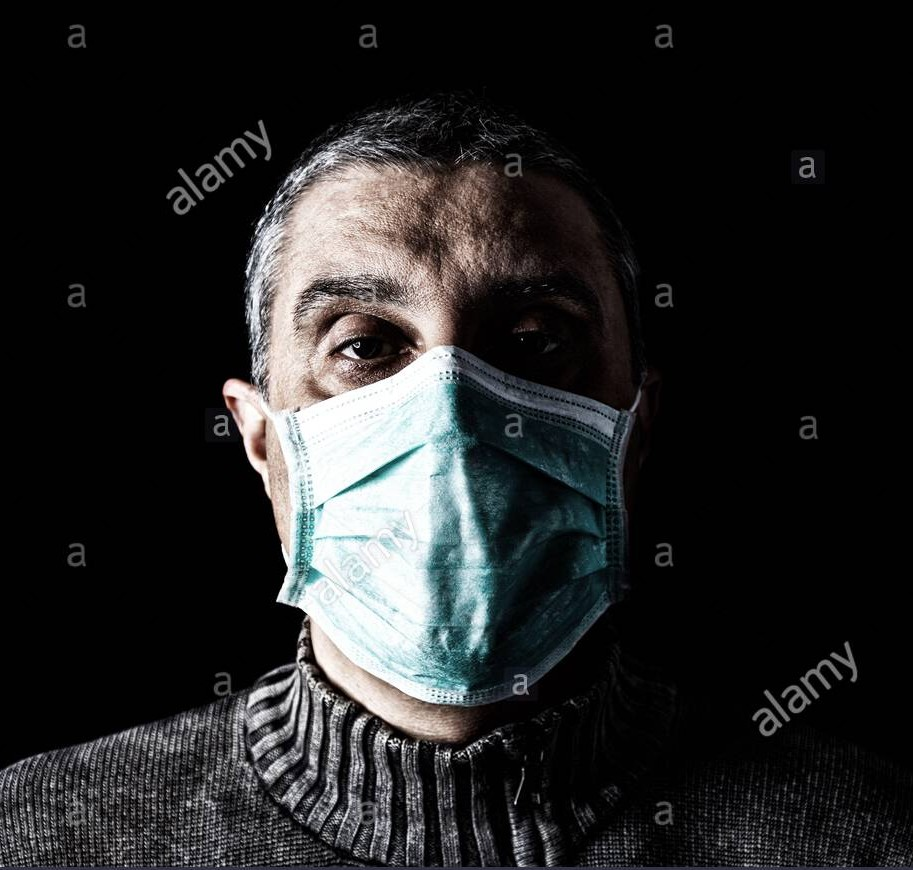with_mask: (223, 150, 660, 695)
